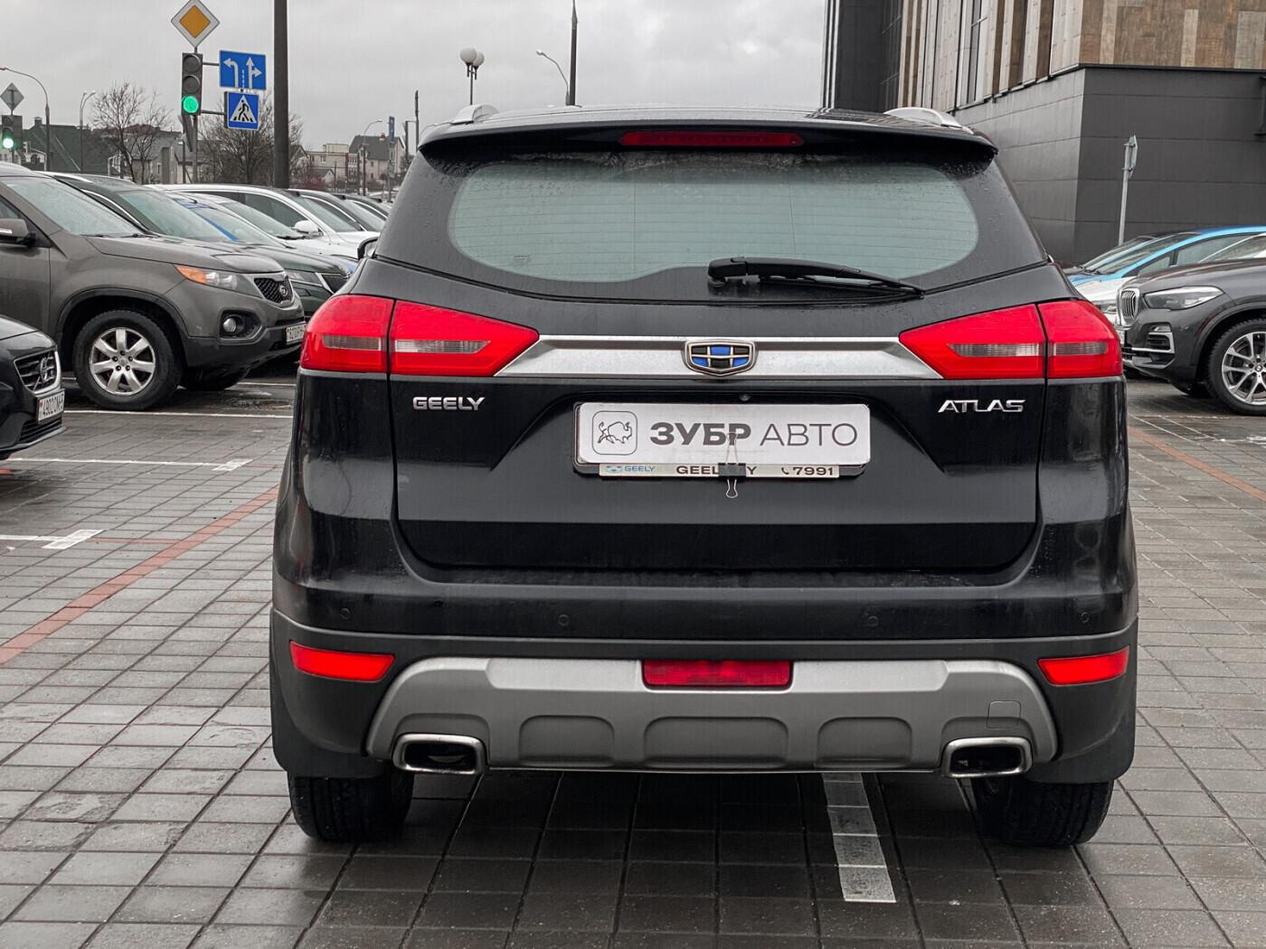Atlas_2016-2023: (265, 99, 1146, 864)
